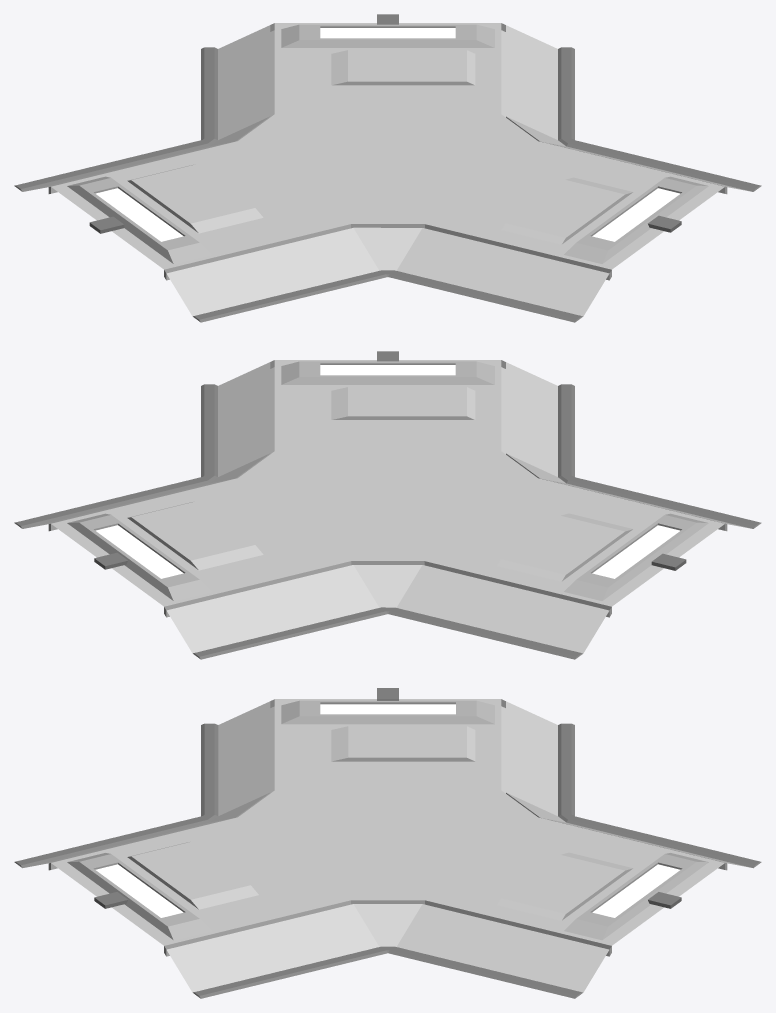
Rendered from Empty_Two_+-120_degrees.fbx.
The picture shows the model from 3 angles, top to bottom: view 1: azimuth 30°, elevation 25°; view 2: azimuth 150°, elevation 25°; view 3: azimuth 270°, elevation 25°; orthographic projection.
Parts seen in each view (by area): view 1: Empty_Two+-120_degrees; view 2: Empty_Two+-120_degrees; view 3: Empty_Two+-120_degrees.
Boxes of the visible parts, left/top/right/bottom form: Empty_Two+-120_degrees: left=14, top=14, right=761, bottom=322; Empty_Two+-120_degrees: left=14, top=351, right=761, bottom=659; Empty_Two+-120_degrees: left=14, top=688, right=761, bottom=998.
Size of the model in its own units: 219 by 11.78 by 247.
